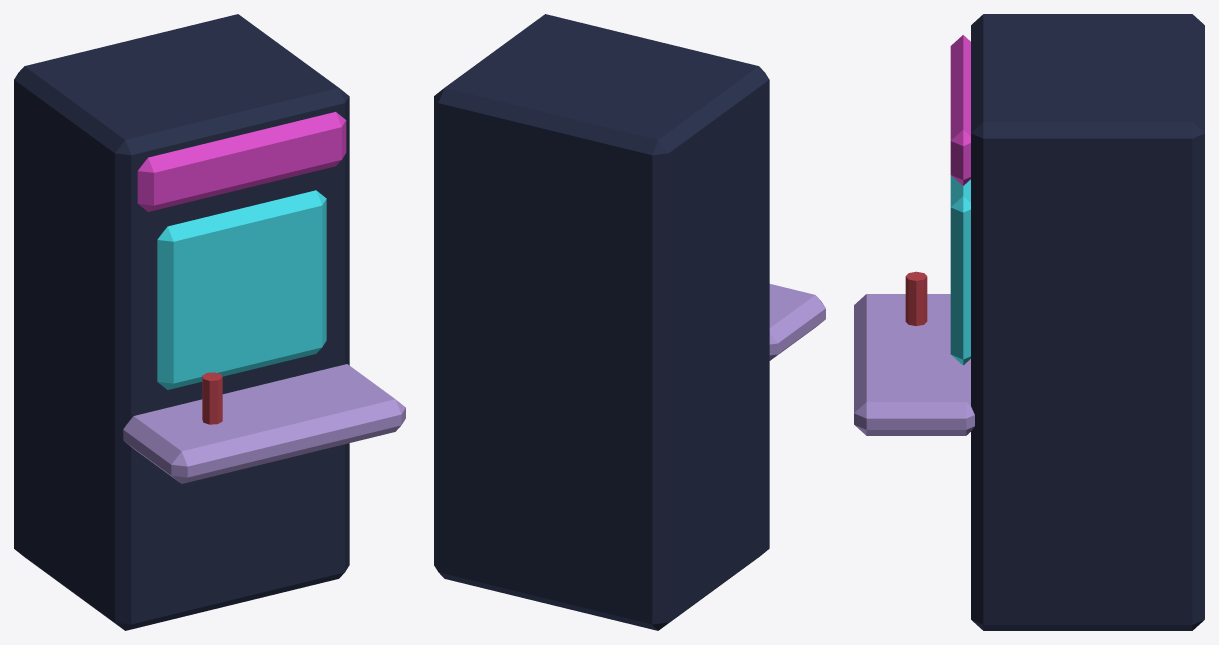
Rendered from arcade-cabinet.glb.
3 renders of one model, left to right at view 1: azimuth 30°, elevation 25°; view 2: azimuth 150°, elevation 25°; view 3: azimuth 270°, elevation 25°, orthographic. The views are drawn at different scales.
Parts seen in each view (by area): view 1: arcade-body, arcade-screen, arcade-controls, arcade-header, joystick; view 2: arcade-body, arcade-controls; view 3: arcade-body, arcade-controls, arcade-screen, arcade-header, joystick.
Part boxes in pixels (x1,y1,x2,y2): arcade-body: (14,14,349,630); arcade-screen: (157,190,326,389); arcade-controls: (123,364,405,483); arcade-header: (137,112,346,211); joystick: (202,372,222,424); arcade-body: (434,14,769,630); arcade-controls: (769,284,825,360); arcade-body: (971,14,1204,630); arcade-controls: (854,294,974,435); arcade-screen: (950,175,970,365); arcade-header: (950,35,970,185); joystick: (905,271,927,325).
Bounding box in the file's own units: 0.9 × 1.8 × 1.13.
